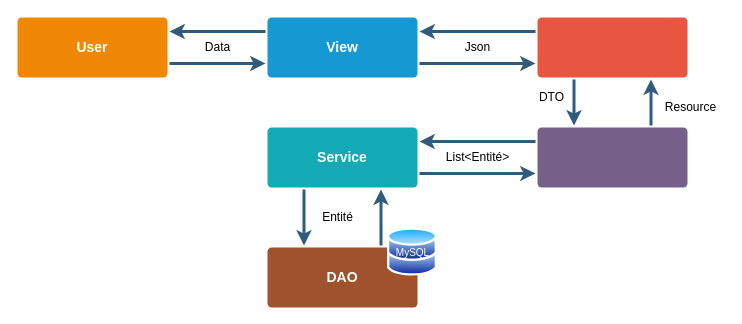
Image size: 742x324. Some labels were removed from this diagram. The shapes that lost their labels are listed below. From the top down, each one's centre as x and y in pixels, then its label:
[612,47]: Controller
[612,157]: Mapper
